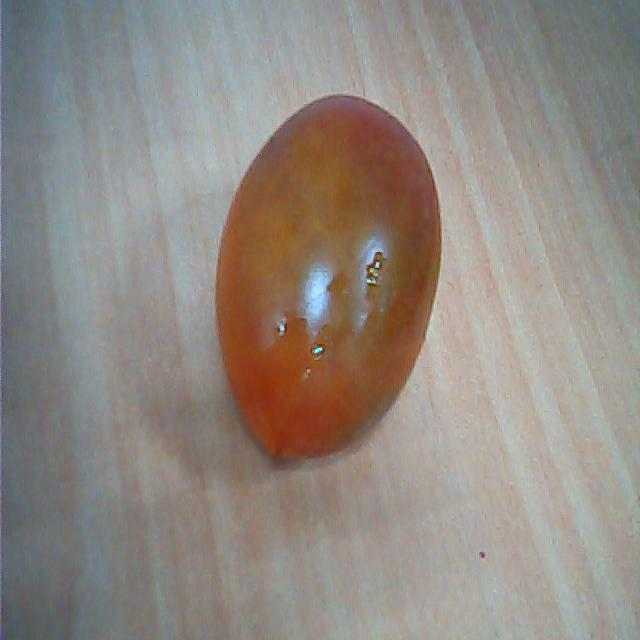verde: (216, 93, 445, 471)
